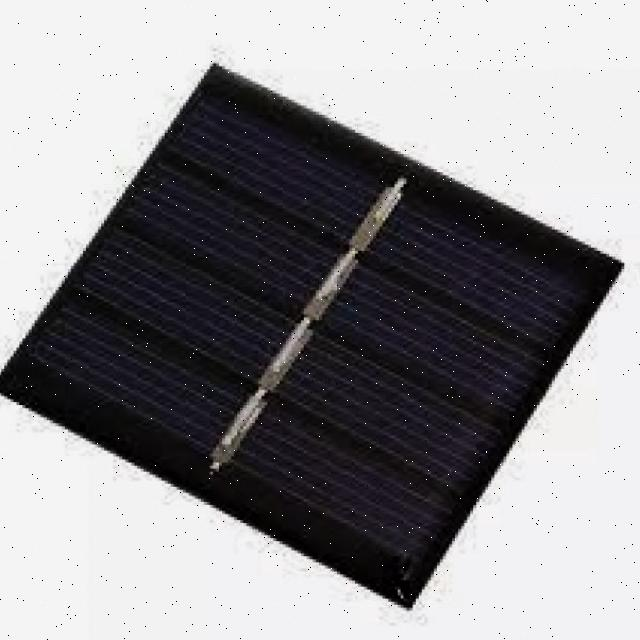Normal Solar Panel: (0, 65, 623, 597)
